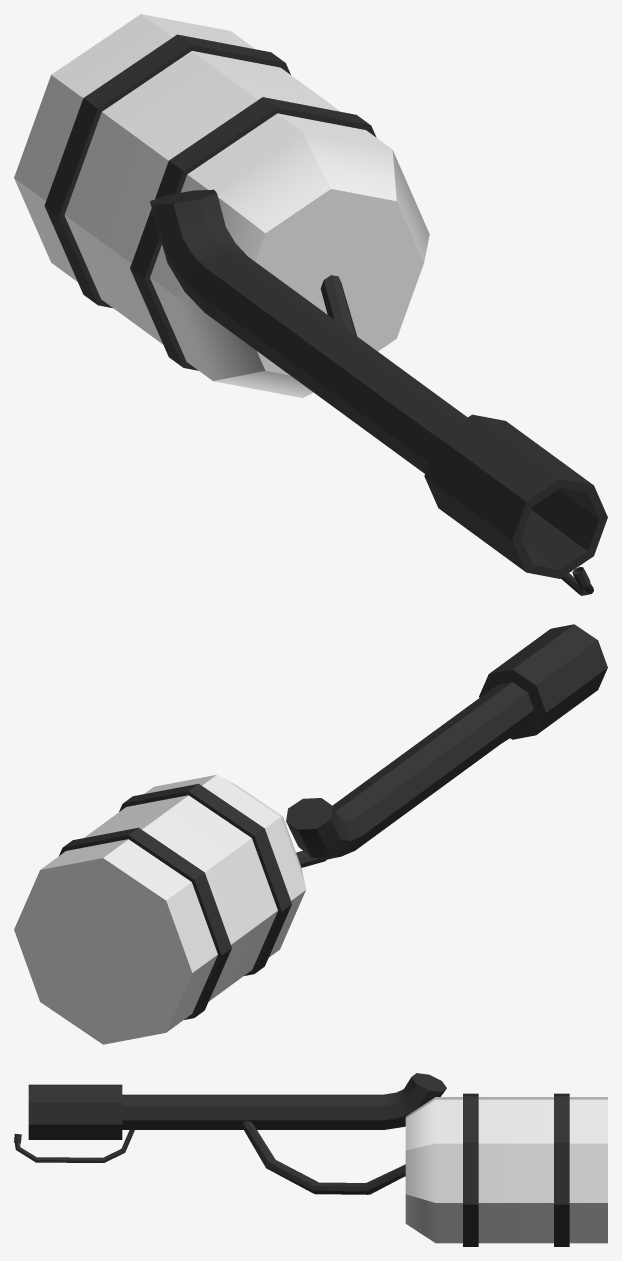
File: Flamethrower.fbx
The picture shows the model from 3 angles, top to bottom: view 1: azimuth 30°, elevation 25°; view 2: azimuth 150°, elevation 25°; view 3: azimuth 270°, elevation 25°; orthographic projection. The views are drawn at different scales.
Parts seen in each view (by area): view 1: tank, flamethrowerBarrell, tankHolster1, tankHolster2; view 2: tank, flamethrowerBarrell, tankHolster1, tankHolster2; view 3: tank, flamethrowerBarrell, tankHolster1, tankHolster2, flameEmitter.
Boxes of the visible parts, bbox=[...] form: tank: bbox=[14, 14, 429, 397]; flamethrowerBarrell: bbox=[150, 189, 607, 578]; tankHolster1: bbox=[44, 34, 290, 307]; tankHolster2: bbox=[130, 97, 376, 370]; tank: bbox=[14, 775, 326, 1044]; flamethrowerBarrell: bbox=[286, 624, 607, 859]; tankHolster1: bbox=[59, 827, 231, 1019]; tankHolster2: bbox=[119, 783, 291, 975]; tank: bbox=[241, 1097, 607, 1243]; flamethrowerBarrell: bbox=[28, 1073, 446, 1139]; tankHolster1: bbox=[554, 1093, 569, 1246]; tankHolster2: bbox=[463, 1093, 478, 1246]; flameEmitter: bbox=[14, 1130, 134, 1162].
Bounding box in the file's own units: 151 × 131 × 476.
Materials: 1 (1 with a texture image).
